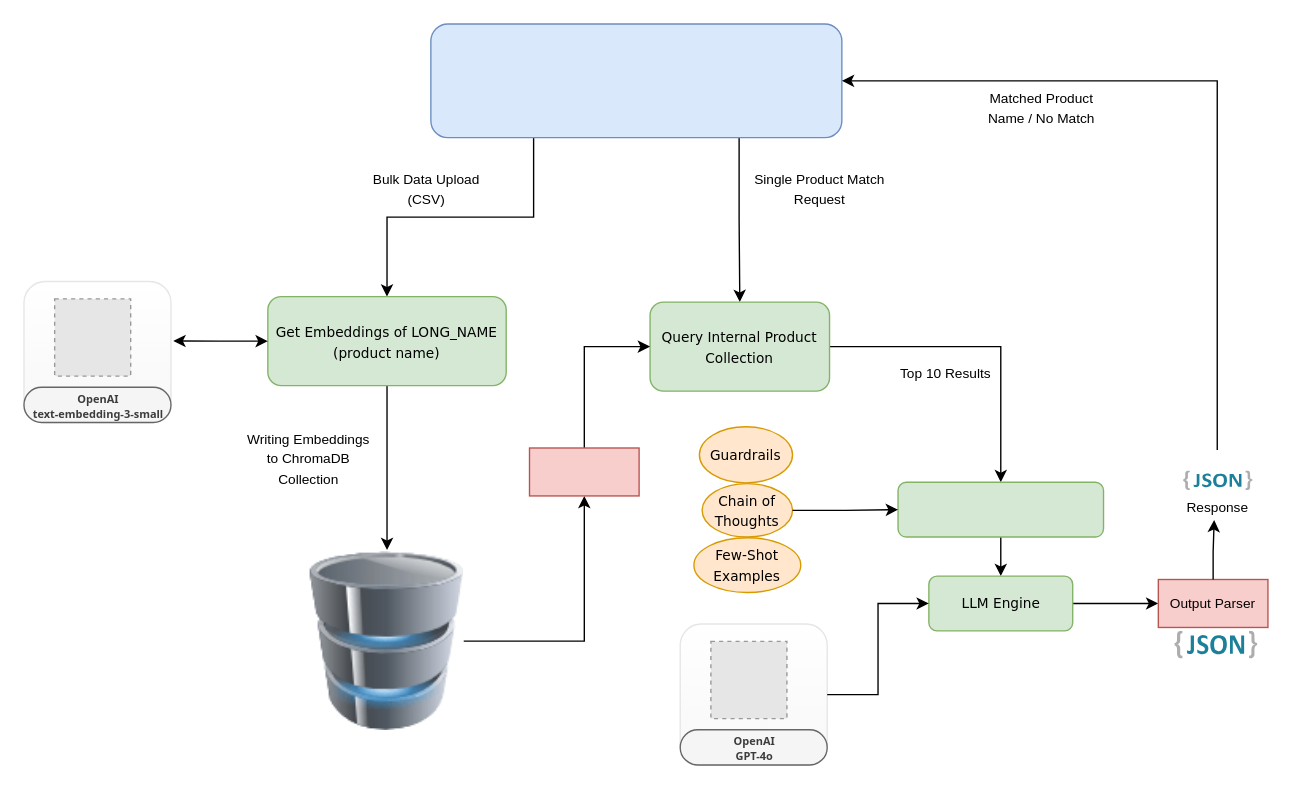
Image size: 1292x800. Some labels were removed from this diagram. Grey dashed boxes stand in for pictures. Each missing label, with the box of its shape:
ChromaDB: (310, 549, 463, 732)
Cosine Similarity Search: (528, 447, 639, 496)
Prompt Generator: (897, 481, 1104, 537)
Streamlit App: (429, 23, 842, 138)
